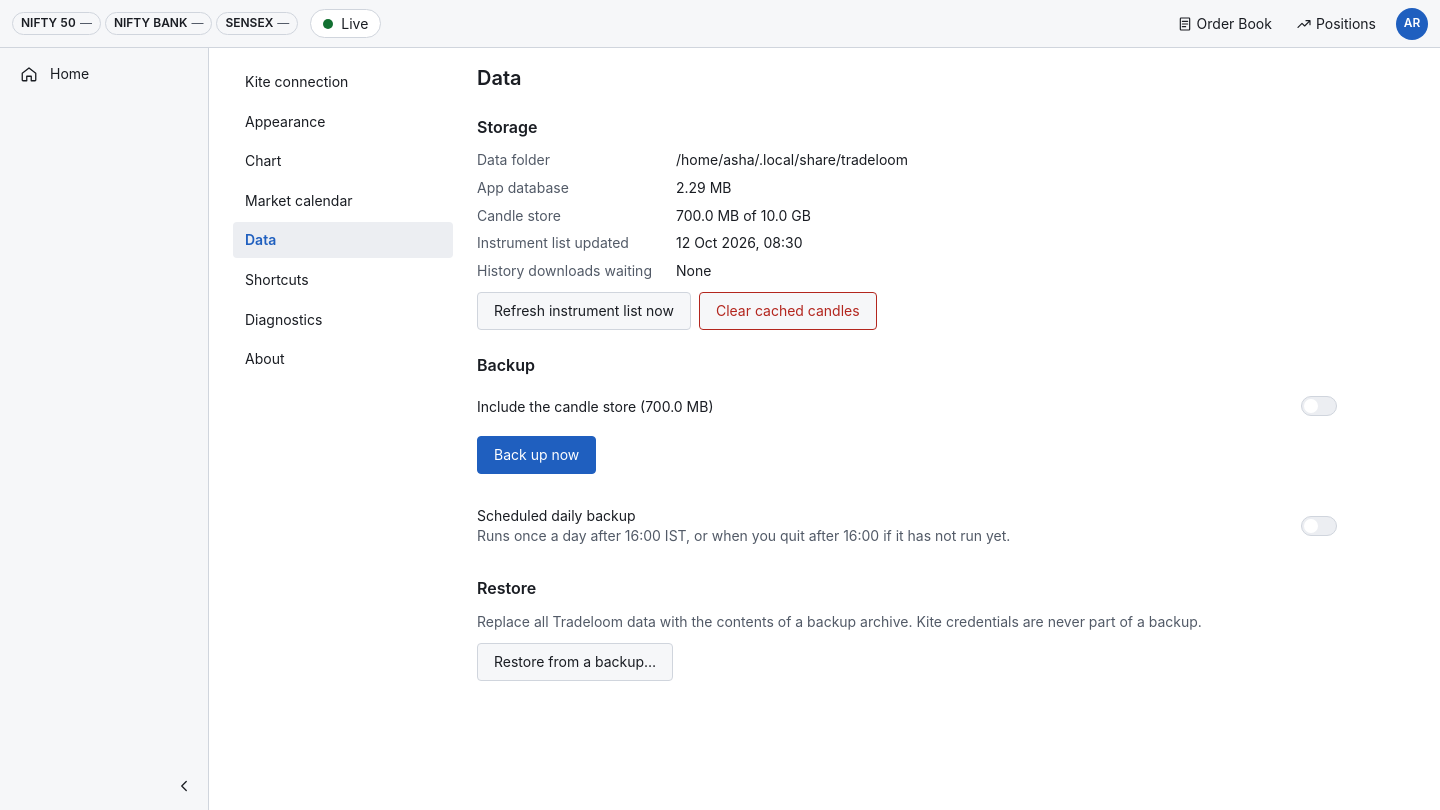
Test: Settings → Data (FR-ACCT-012, FR-DATA-005 UI) › FR-DATA-005 AC2 (UI part): an archive from a newer schema is refused with Go's reason
Click the button "Restore from a backup…".
click(575, 662)  # box x1=477 y1=643 x2=673 y2=681
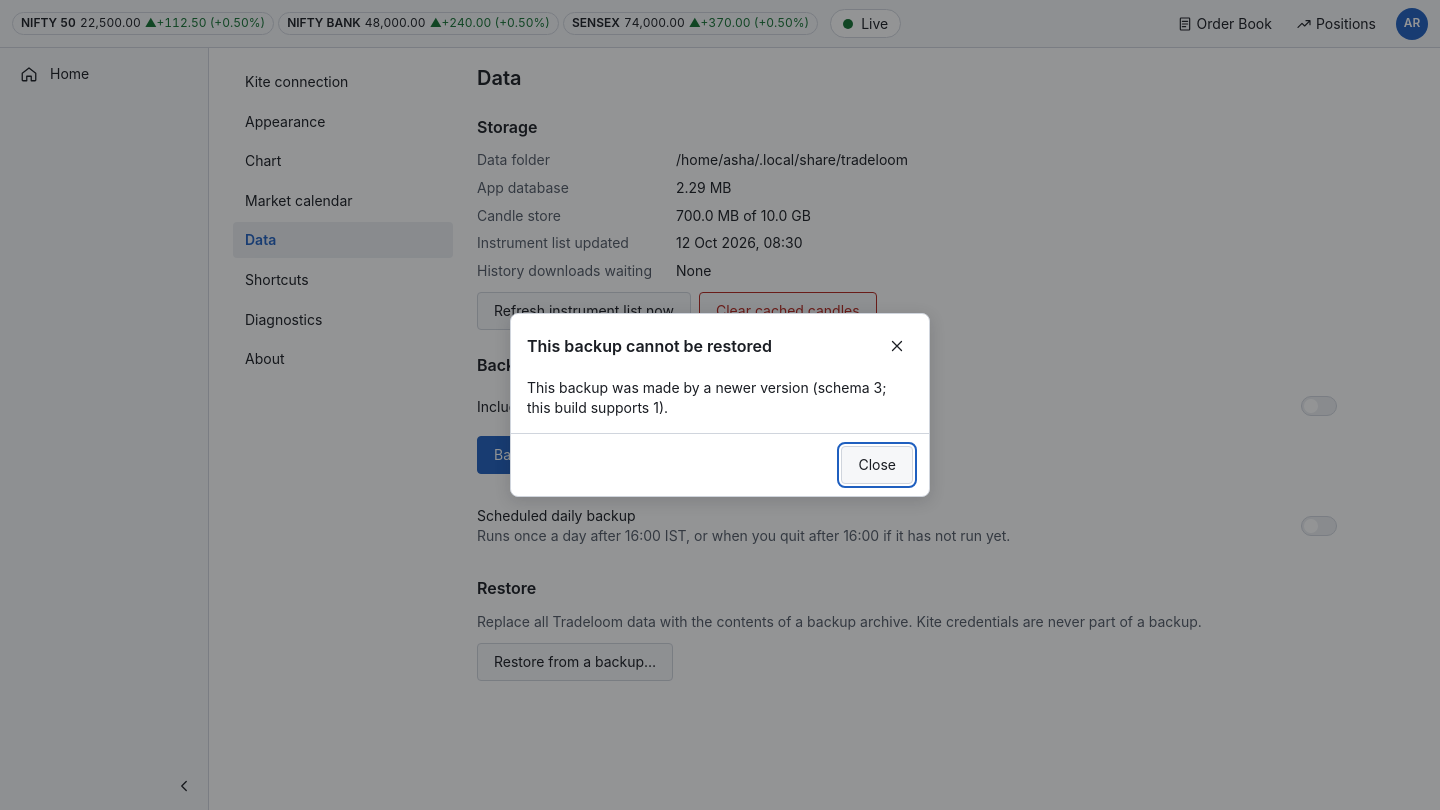
Now the message reads "This backup was made by a newer version (schema 3; this build supports 1).", box x1=527 y1=379 x2=886 y2=416
